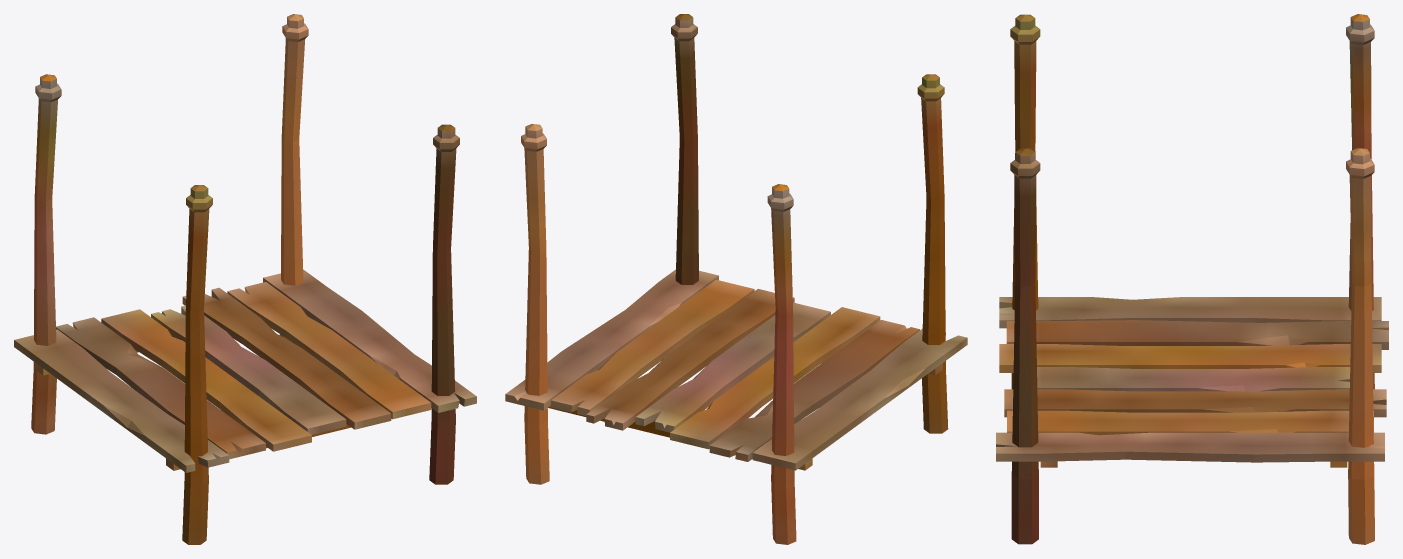
Rendered from mega-pack-cube-013.glb.
The picture shows the model from 3 angles, left to right: view 1: azimuth 30°, elevation 25°; view 2: azimuth 150°, elevation 25°; view 3: azimuth 270°, elevation 25°; orthographic projection. The views are drawn at different scales.
Visible parts, largest first — view 1: Cube.013; view 2: Cube.013; view 3: Cube.013.
Part boxes in pixels (<box>): Cube.013: <box>14,14,476,544</box>; Cube.013: <box>505,14,967,544</box>; Cube.013: <box>996,14,1388,544</box>.
Bounding box in the file's own units: 1.21 × 1.4 × 1.27.
1 material, 1 textured.
